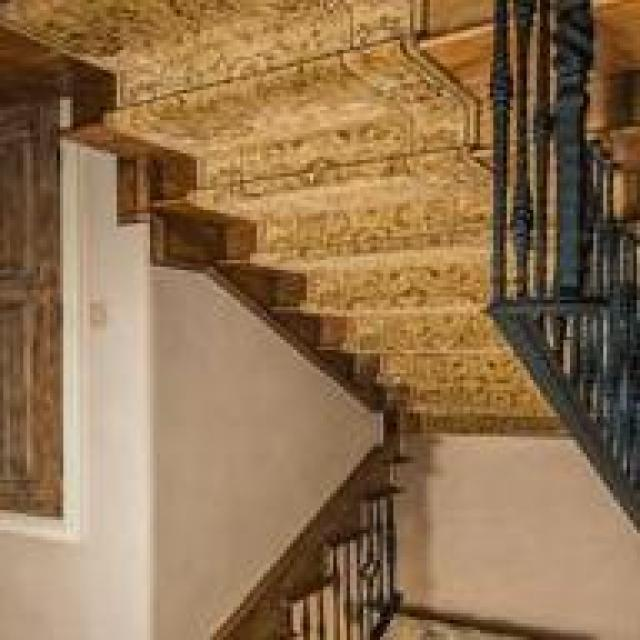Stairs: (8, 0, 598, 416)
